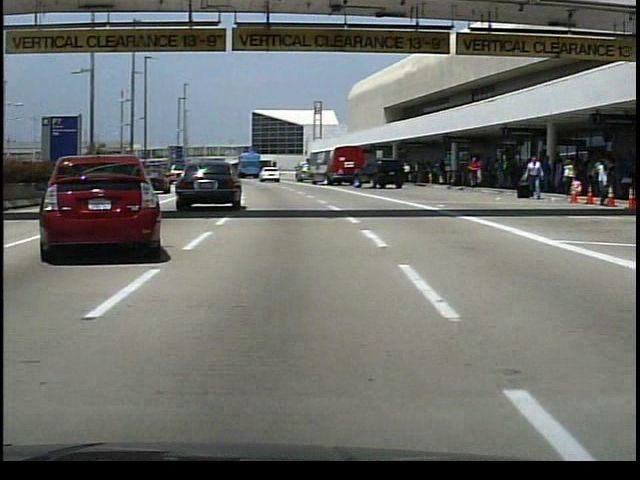person: (519, 153, 542, 199), (465, 156, 483, 187), (401, 162, 413, 186)
